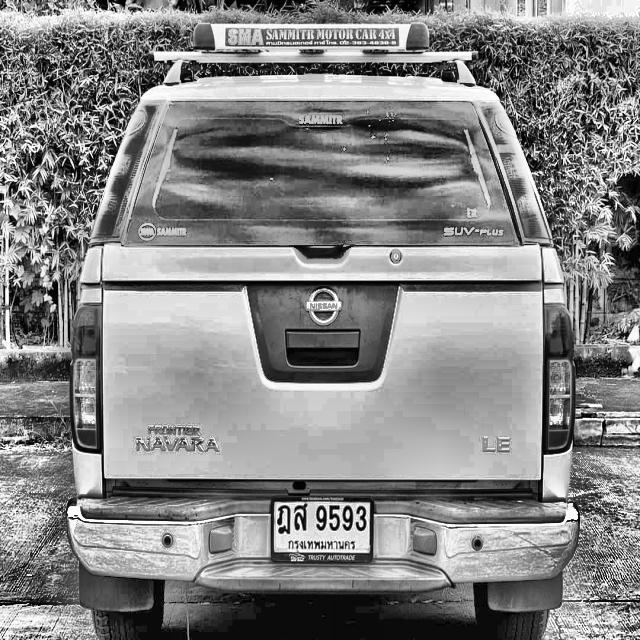license-plate: (269, 490, 377, 566)
